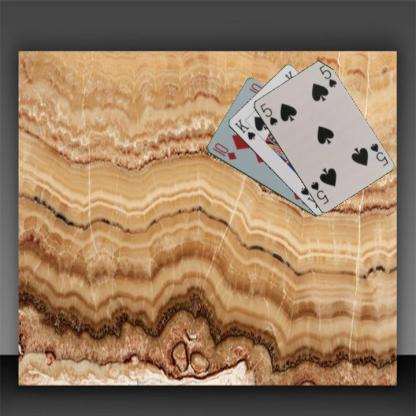10d: (210, 140, 237, 162)
5s: (368, 140, 390, 168), (257, 100, 279, 126)
Ks: (232, 116, 256, 141)
